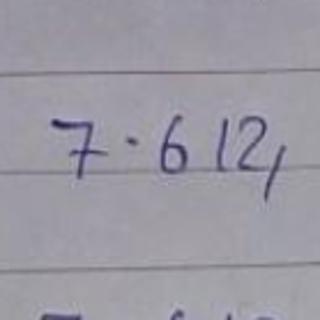.: (124, 129, 143, 150)
1: (216, 114, 227, 172)
2: (233, 110, 267, 173)
6: (160, 113, 195, 174)
7: (49, 114, 111, 179)
